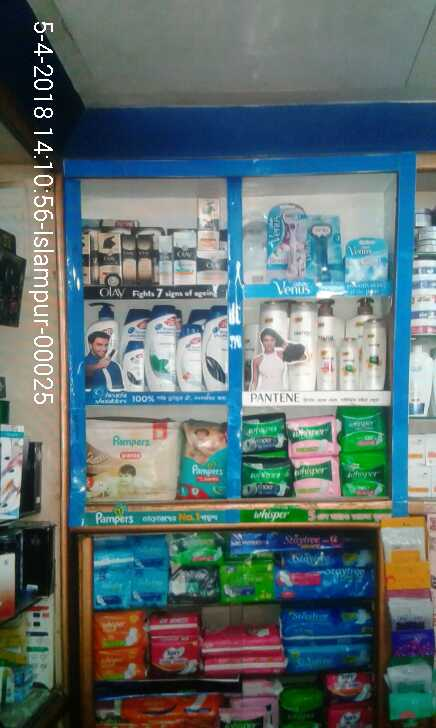venus: (301, 213, 340, 280), (270, 203, 301, 280), (345, 238, 389, 281), (243, 210, 268, 284)
